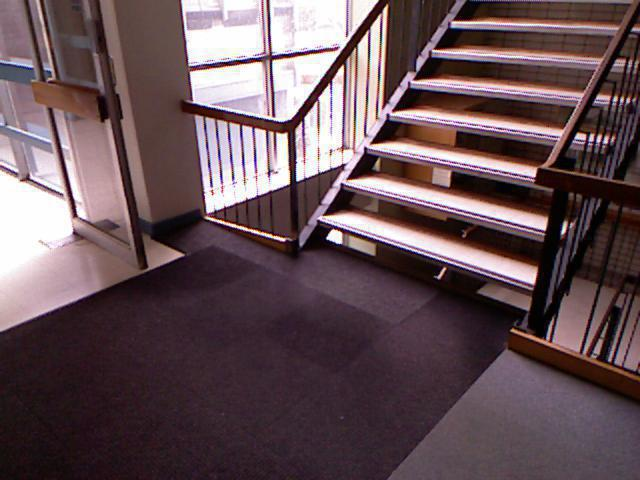Escaleras: (295, 18, 637, 278)
